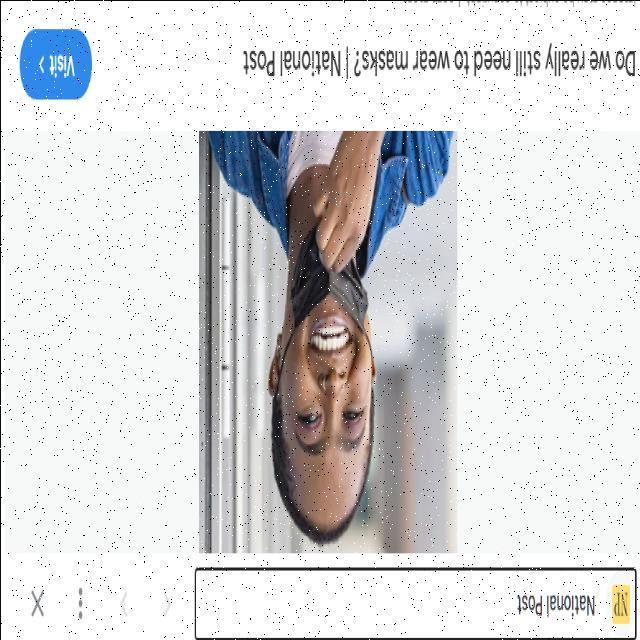face_no_mask: (267, 269, 377, 507)
